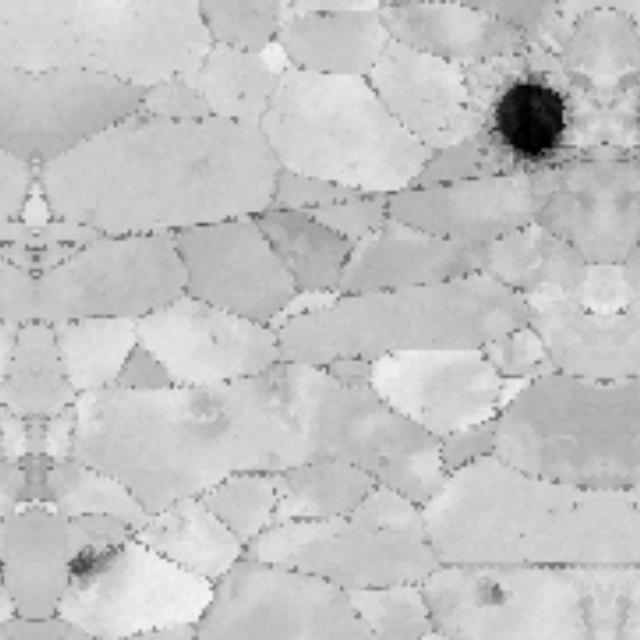good_void: (472, 68, 573, 168), (62, 540, 131, 597), (466, 567, 524, 626)
